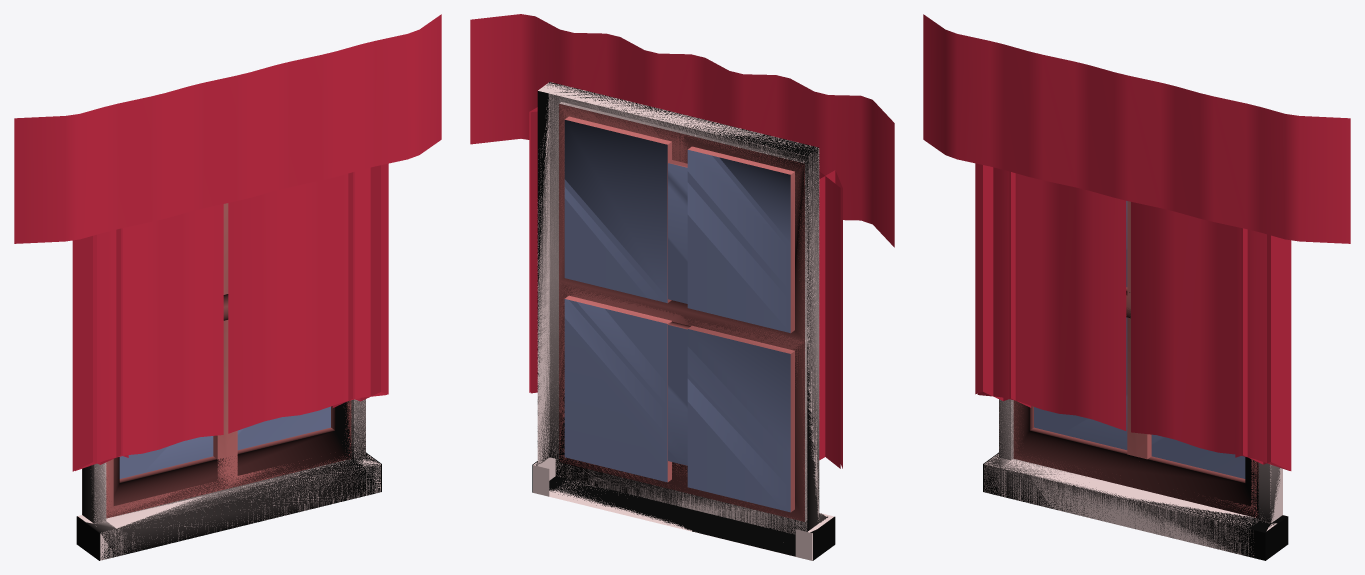
Rendered from windows.fbx.
3 renders of one model, left to right at view 1: azimuth 30°, elevation 25°; view 2: azimuth 150°, elevation 25°; view 3: azimuth 330°, elevation 25°, orthographic.
Visible parts, largest first — view 1: CurtainsTop, CurtainsRight.001, CurtainsLeft.001, Window_2, Window_4, CurtainsLeft, CurtainsRight; view 2: Window_4, Window_2, CurtainsTop, CurtainsLeft.001, CurtainsLeft, CurtainsRight.001, CurtainsRight; view 3: CurtainsTop, CurtainsRight.001, CurtainsLeft.001, Window_2, Window_4, CurtainsRight, CurtainsLeft.
Boxes of the visible parts, box(x1,y1,x2,y2) form: CurtainsTop: box(14, 14, 441, 243); CurtainsRight.001: box(228, 167, 387, 433); CurtainsLeft.001: box(75, 204, 223, 470); Window_2: box(76, 294, 381, 560); Window_4: box(77, 203, 380, 560); CurtainsLeft: box(72, 228, 128, 471); CurtainsRight: box(332, 163, 388, 407); Window_4: box(533, 82, 834, 560); Window_2: box(532, 82, 835, 560); CurtainsTop: box(470, 14, 894, 247); CurtainsLeft.001: box(819, 171, 840, 468); CurtainsLeft: box(819, 170, 842, 468); CurtainsRight.001: box(530, 111, 537, 393); CurtainsRight: box(529, 107, 537, 392); CurtainsTop: box(923, 14, 1350, 243); CurtainsRight.001: box(1131, 202, 1289, 470); CurtainsLeft.001: box(977, 167, 1126, 430); Window_2: box(983, 201, 1288, 560); Window_4: box(984, 201, 1287, 557); CurtainsRight: box(1235, 228, 1291, 470); CurtainsLeft: box(975, 163, 1031, 407).
Size of the model in its own units: 345 by 351 by 36.29.
